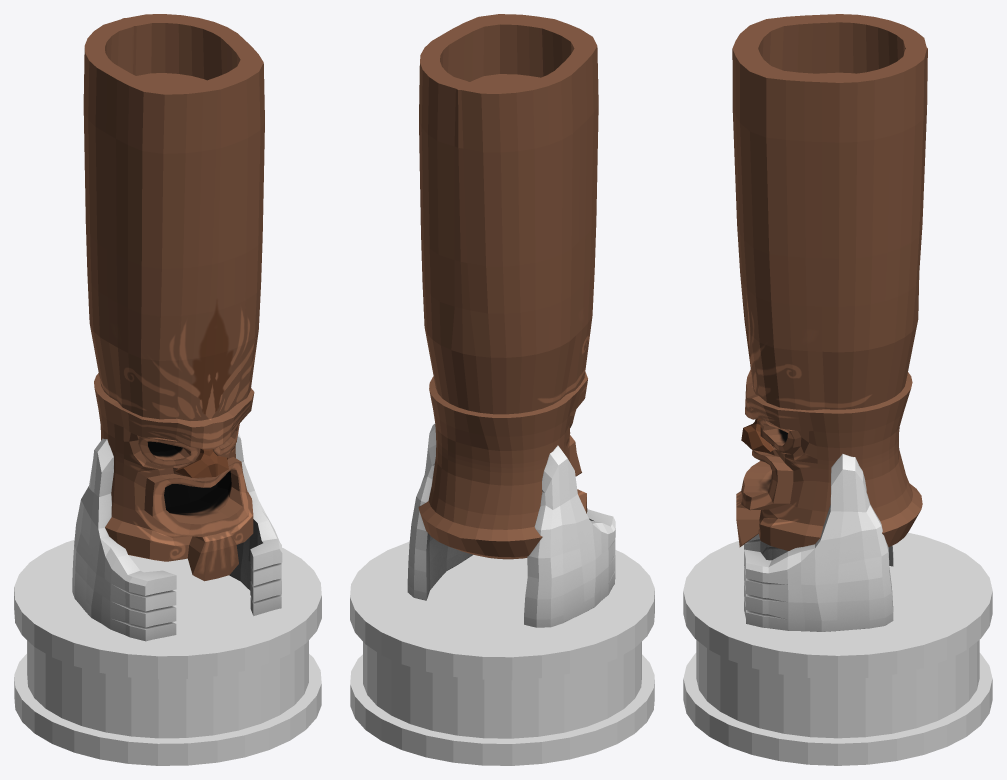
The model's file is Tiki Cannon.fbx.
3 views of the same model, side by side, from view 1: azimuth 30°, elevation 25°; view 2: azimuth 150°, elevation 25°; view 3: azimuth 270°, elevation 25° (orthographic).
Visible parts, largest first — view 1: Body, Pedestal, Arms; view 2: Body, Pedestal, Arms; view 3: Body, Pedestal, Arms.
Part boxes in pixels (x1,y1,x2,y2): Body: (83,14,264,581); Pedestal: (14,540,321,765); Arms: (72,432,282,641); Body: (418,14,598,559); Pedestal: (350,541,654,765); Arms: (407,423,615,627); Body: (732,14,927,550); Pedestal: (683,532,992,765); Arms: (744,454,893,631).
Bounding box in the file's own units: 490 × 1139 × 490.
